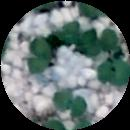Basil: (97, 58, 128, 86), (54, 89, 86, 113), (75, 31, 101, 59), (53, 21, 77, 47), (103, 27, 121, 53), (32, 38, 45, 68)
